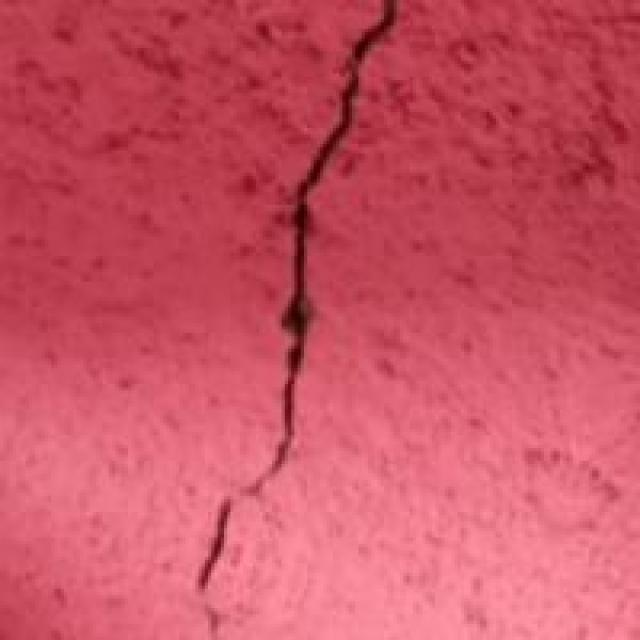Crack: (166, 3, 420, 637)
